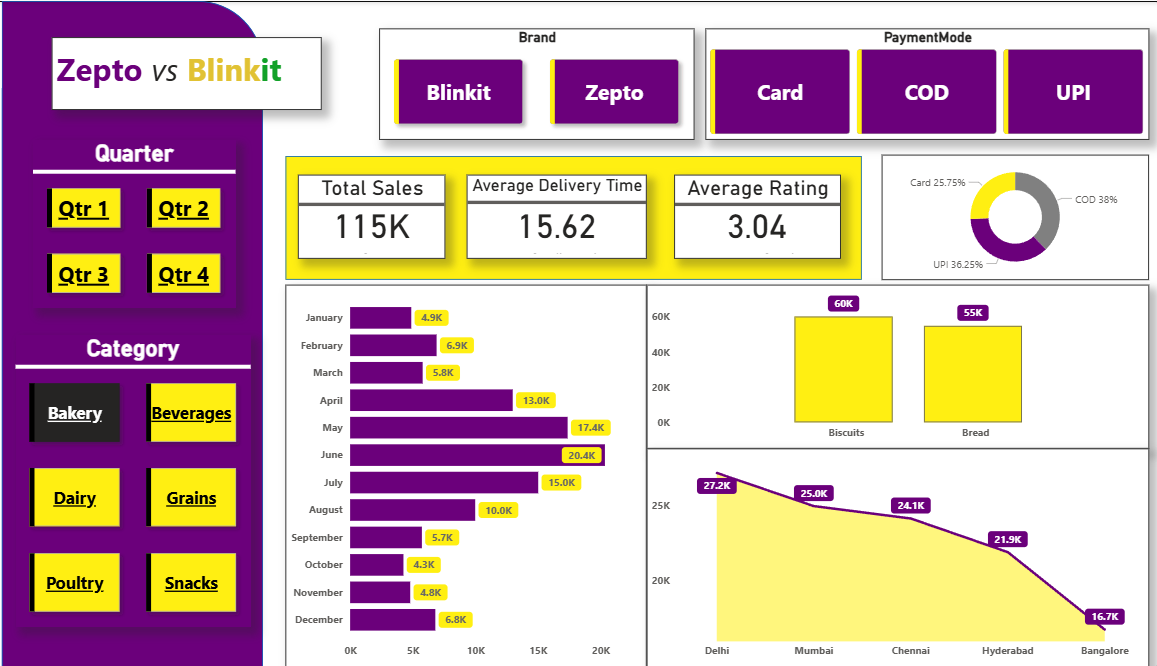

What the dashboard file says about the page in this screenshot:
{"tool":"powerbi","page":{"name":"Page 1","canvas":[1400,800],"ordinal":0},"visuals":[{"type":"shape","box":[10.5,0,313.7,800],"z":0},{"type":"textbox","box":[70.5,43,324.2,87.1],"z":2000},{"type":"advancedSlicerVisual","fields":{"Values":["Table2.Brand"]},"box":[463.8,33,378.2,133.6],"z":3000},{"type":"advancedSlicerVisual","fields":{"Values":["Table2.PaymentMode"]},"box":[855.5,33,532.8,133.6],"z":4000},{"type":"advancedSlicerVisual","title":" Quarter","fields":{"Values":["Table2.Date.Variation.Date Hierarchy.Quarter"]},"box":[48,166.6,243.1,202.6],"z":5000},{"type":"advancedSlicerVisual","title":" Category","fields":{"Values":["Table2.Category"]},"box":[27,400.7,282.2,351.2],"z":6000},{"type":"shape","box":[351.2,186.1,691.9,148.6],"z":7000},{"type":"card","title":"Total Sales","fields":{"Values":["Sum(Table2.Amount)"]},"box":[366.2,208.6,177.1,100.6],"z":8000},{"type":"card","title":"Average Delivery Time","fields":{"Values":["Avg(Table2.DeliveryTime(min))"]},"box":[568.8,208.6,216.1,100.6],"z":9000},{"type":"card","title":"Average Rating","fields":{"Values":["Avg(Table2.Rating)"]},"box":[818,208.6,199.6,100.6],"z":10000},{"type":"clusteredBarChart","fields":{"Category":["Table2.Date.Variation.Date Hierarchy.Month"],"Y":["Sum(Table2.Amount)"]},"box":[351.2,340.7,433.7,459.3],"z":11000},{"type":"columnChart","fields":{"Category":["Table2.Product"],"Y":["Sum(Table2.Amount)"]},"box":[785,340.7,603.3,196.6],"z":12000},{"type":"areaChart","fields":{"Category":["Table2.City"],"Y":["Sum(Table2.Amount)"]},"box":[785,538,603,262],"z":13000},{"type":"donutChart","fields":{"Category":["Table2.PaymentMode"],"Y":["Sum(Table2.Amount)"]},"box":[1067.1,184.6,321.2,150.1],"z":14000}]}

Visuals, with their boxes in screenshot pixels (x1, y1, x2, y2), scaled from the page's 1400x800 canvas onto the 1157x666 screenshot:
shape: crop(9, 0, 268, 665)
textbox: crop(58, 36, 326, 108)
advancedSlicerVisual - Table2.Brand: crop(383, 27, 696, 139)
advancedSlicerVisual - Table2.PaymentMode: crop(707, 27, 1147, 139)
" Quarter" advancedSlicerVisual: crop(40, 139, 241, 307)
" Category" advancedSlicerVisual: crop(22, 334, 256, 626)
shape: crop(290, 155, 862, 279)
"Total Sales" card: crop(303, 174, 449, 257)
"Average Delivery Time" card: crop(470, 174, 649, 257)
"Average Rating" card: crop(676, 174, 841, 257)
clusteredBarChart - Table2.Date.Variation.Date Hierarchy.Month x Sum(Table2.Amount): crop(290, 284, 649, 665)
columnChart - Table2.Product x Sum(Table2.Amount): crop(649, 284, 1147, 447)
areaChart - Table2.City x Sum(Table2.Amount): crop(649, 448, 1147, 665)
donutChart - Table2.PaymentMode x Sum(Table2.Amount): crop(882, 154, 1147, 279)
